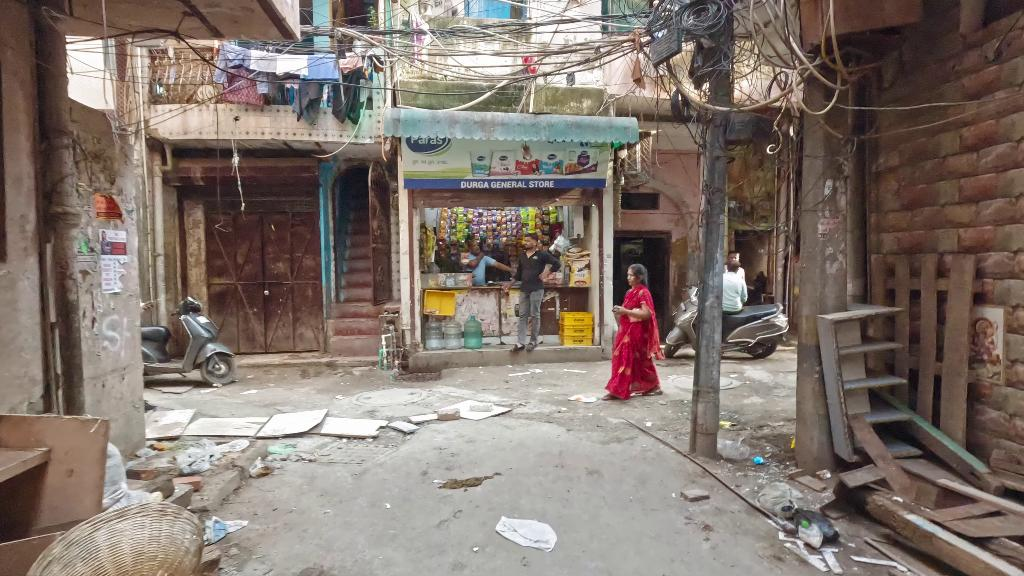garbage: (759, 480, 847, 555), (484, 507, 561, 557), (203, 509, 249, 543), (719, 439, 763, 467), (263, 439, 305, 462)
